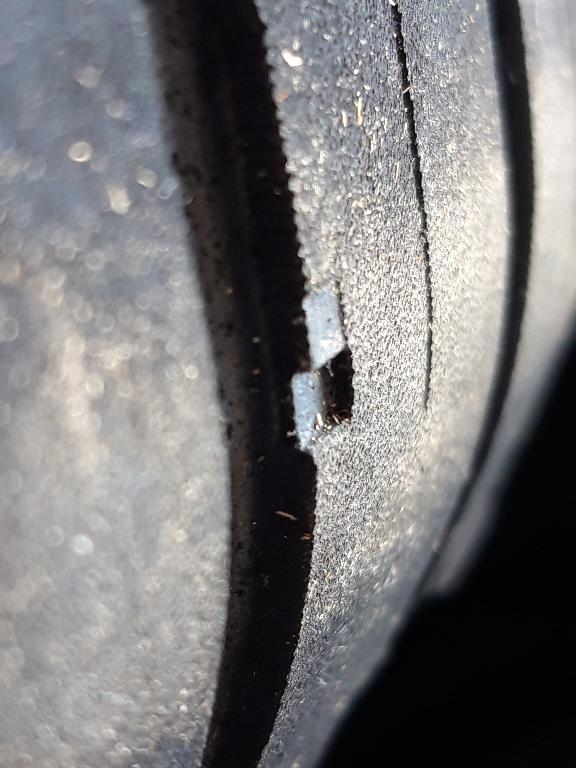temoin:25: (240, 268, 366, 462)
